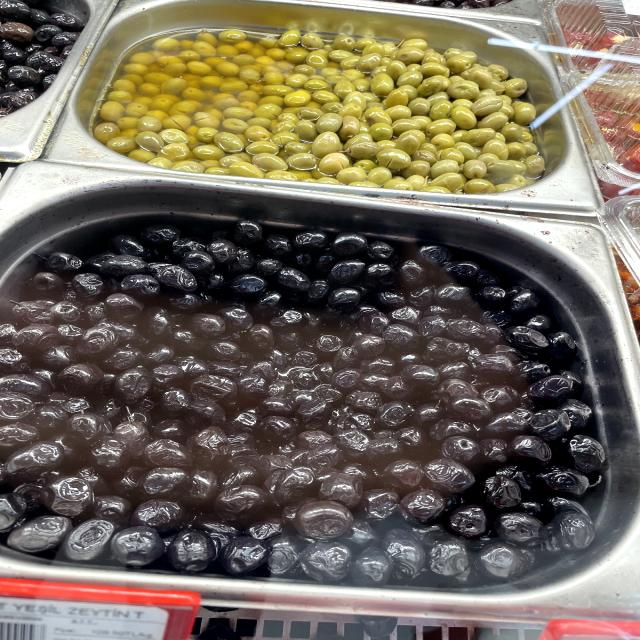olive: (67, 259, 541, 542), (289, 496, 363, 543), (178, 421, 238, 470), (124, 491, 191, 532), (180, 367, 243, 403), (306, 327, 354, 364)
